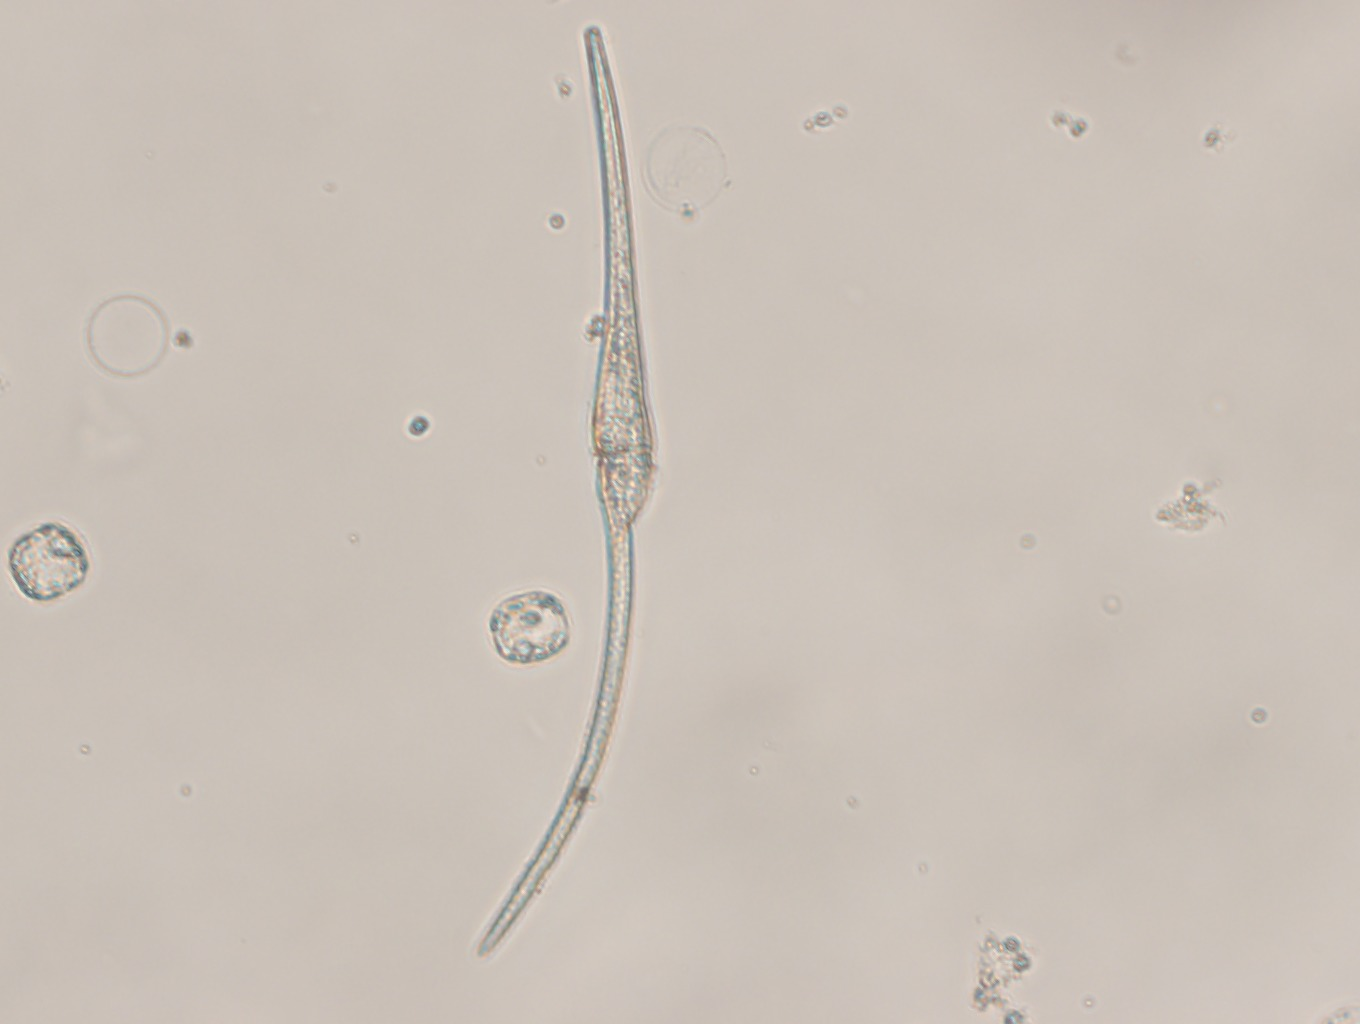ceratium fusus: (476, 25, 654, 958)
